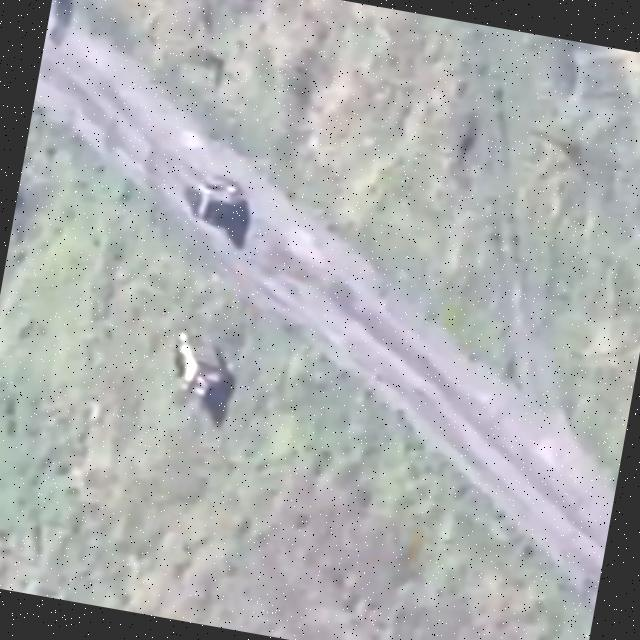Vehicle: (161, 328, 239, 405), (178, 171, 254, 234)
